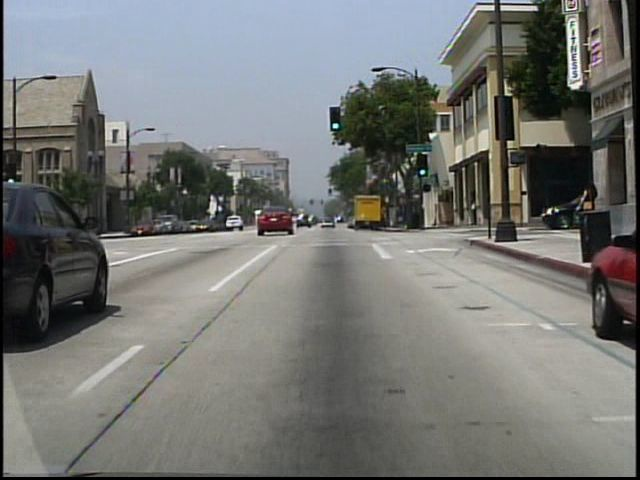person: (573, 176, 597, 243), (470, 199, 478, 230)
